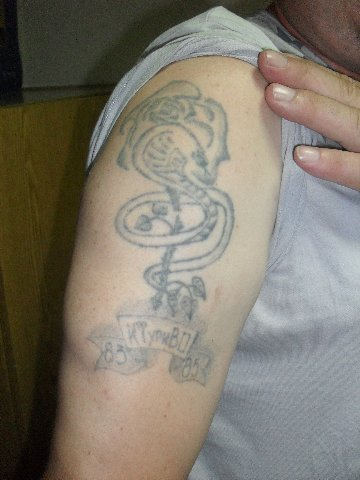tatu3_bukva: (116, 317, 195, 352)
tatu7_zmeya: (116, 61, 245, 312)
